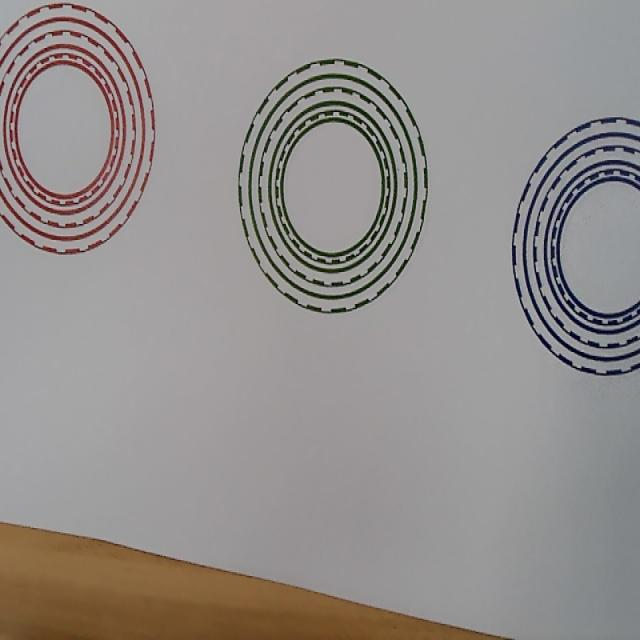g: (238, 58, 428, 315)
